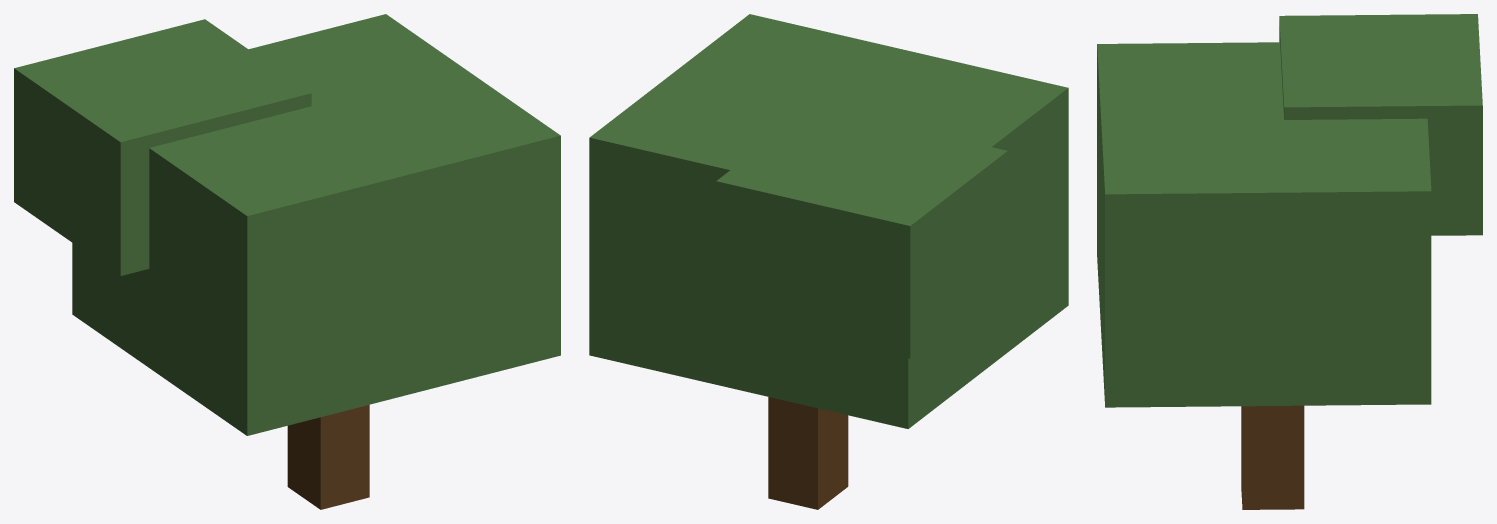
The model's file is trees3.gltf.
3 renders of one model, left to right at view 1: azimuth 30°, elevation 25°; view 2: azimuth 150°, elevation 25°; view 3: azimuth 270°, elevation 25°, orthographic. The views are drawn at different scales.
Visible parts, largest first — view 1: Cube.016, Cube.017, Cube.018; view 2: Cube.016, Cube.017, Cube.018; view 3: Cube.016, Cube.017, Cube.018.
Part boxes in pixels (box(x1,y1,x2,y2)): Cube.016: box(72, 14, 560, 435); Cube.017: box(14, 19, 311, 275); Cube.018: box(287, 404, 369, 509); Cube.016: box(589, 14, 1068, 428); Cube.017: box(716, 106, 1007, 358); Cube.018: box(768, 397, 848, 509); Cube.016: box(1097, 42, 1431, 407); Cube.017: box(1279, 14, 1482, 235); Cube.018: box(1241, 405, 1304, 509).
Bounding box in the file's own units: 0.376 × 0.4028 × 0.3655.
